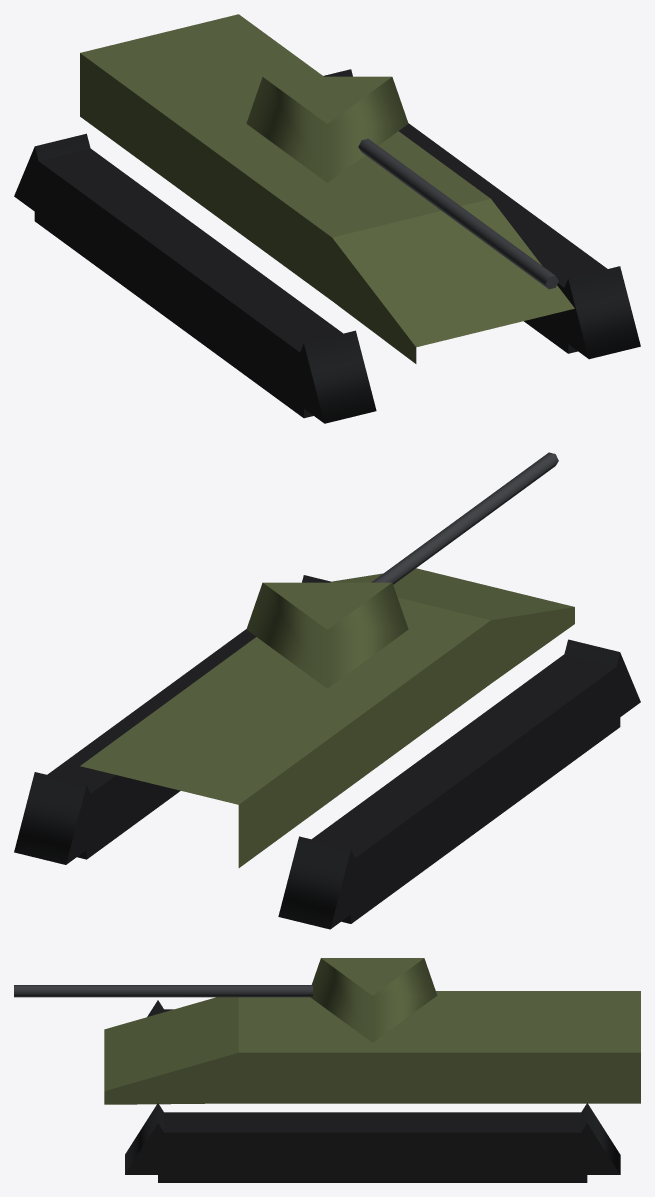
The model's file is veh_ground_tank_light_a08_lod2.glb.
The picture shows the model from 3 angles, top to bottom: view 1: azimuth 30°, elevation 25°; view 2: azimuth 150°, elevation 25°; view 3: azimuth 270°, elevation 25°; orthographic projection. The views are drawn at different scales.
Visible parts, largest first — view 1: body, track_r, turret, track_l; view 2: body, track_r, turret, track_l; view 3: body, track_l, turret.
Boxes of the visible parts, x1,y1,x2,y2 form: body: [80, 14, 574, 363]; track_r: [14, 133, 376, 423]; turret: [246, 76, 558, 289]; track_l: [323, 69, 640, 359]; body: [80, 568, 574, 867]; track_r: [278, 639, 640, 929]; turret: [246, 452, 558, 688]; track_l: [14, 575, 331, 864]; body: [104, 991, 640, 1104]; track_l: [125, 1103, 620, 1182]; turret: [14, 958, 437, 1042].
Bounding box in the file's own units: 3.32 × 1.89 × 7.13.
